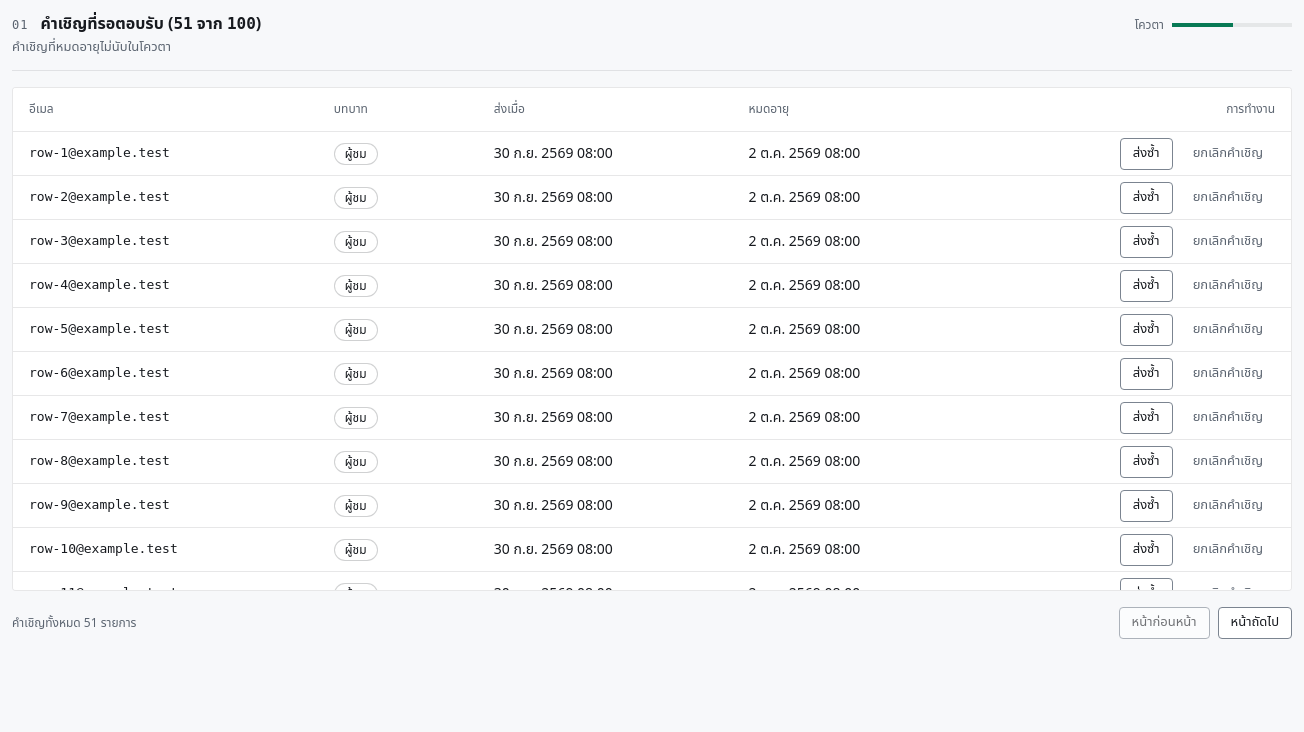
PendingInvitationsSection › focuses the heading and offers the previous page when the next page fails
This screenshot has width=1304, height=732.
Click the button with test id "pending-invitations-next" at (1255, 622), box [1218,606,1292,638]
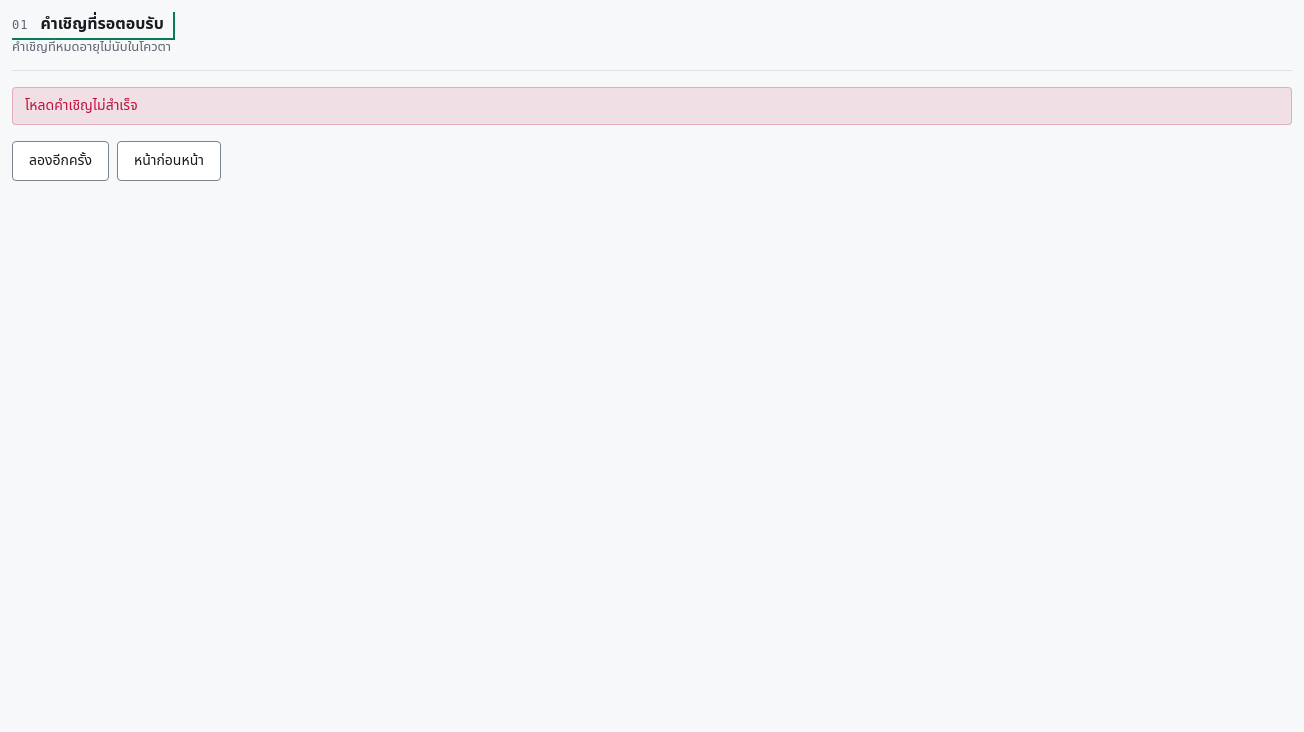
Check: the message "โหลดคำเชิญไม่สำเร็จ" is shown, box [12,86,1292,124]
Press Tab
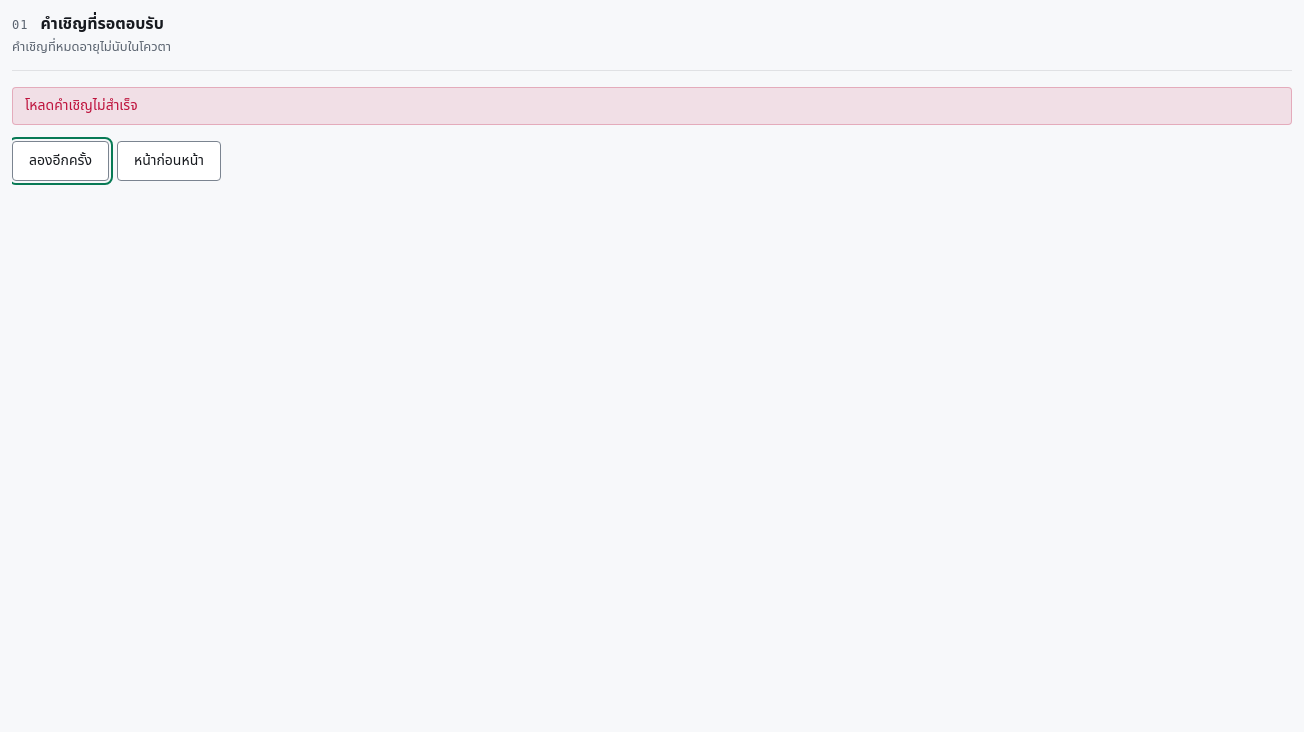
Press Tab
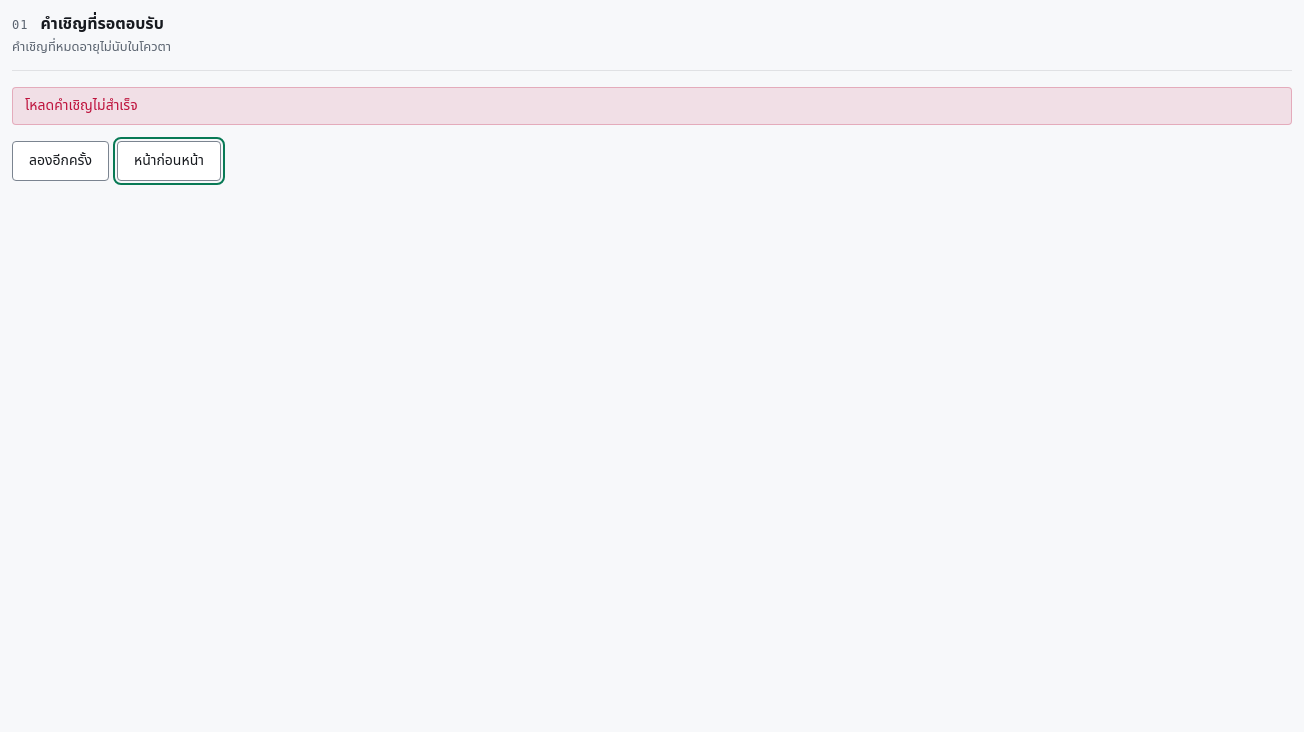
Press Enter
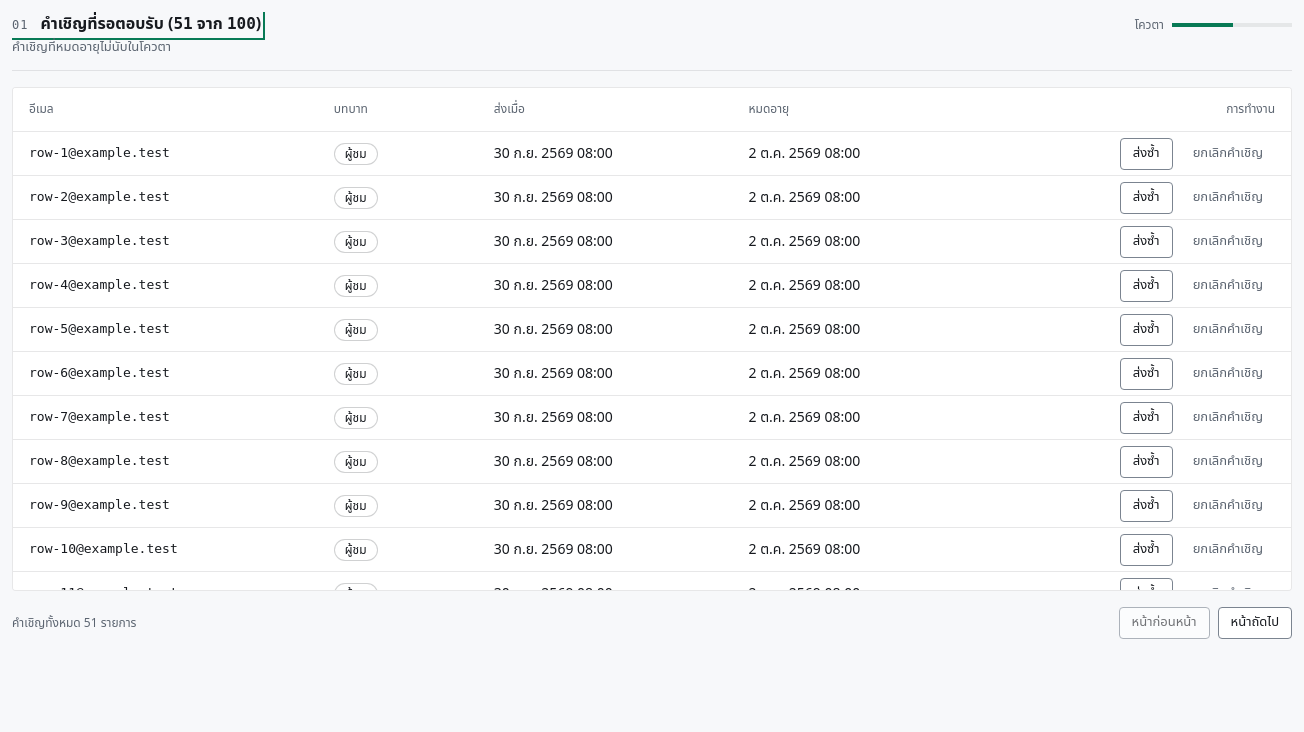
Check: the message with test id "pending-invitations-load-error" is gone
